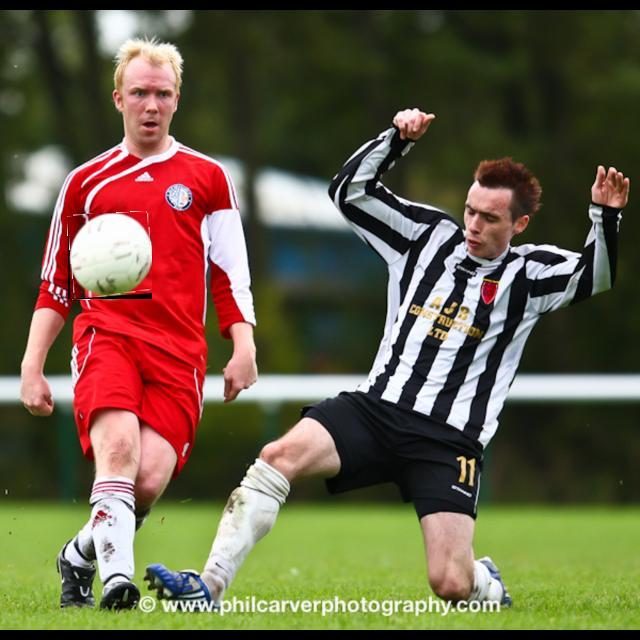Football: (68, 213, 152, 299)
